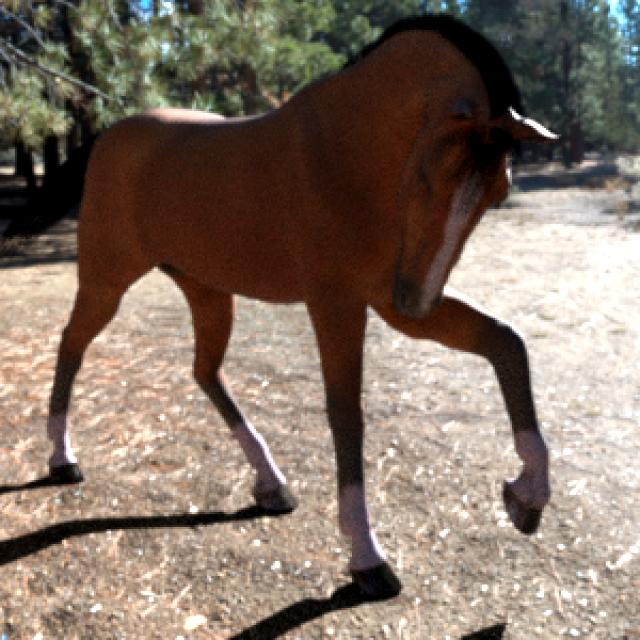horse: (5, 15, 558, 599)
